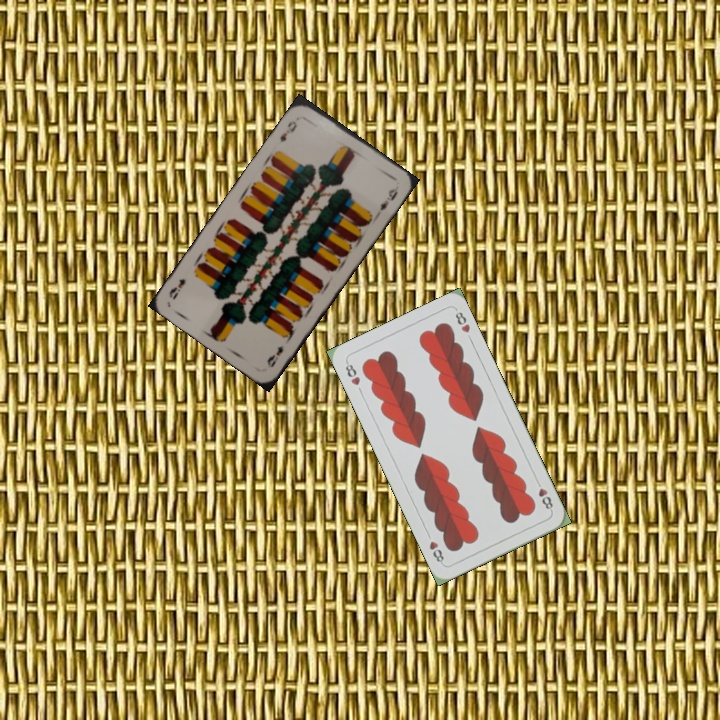E9: (276, 117, 300, 145), (263, 341, 286, 370)
H8: (532, 476, 556, 514), (341, 358, 363, 388)
